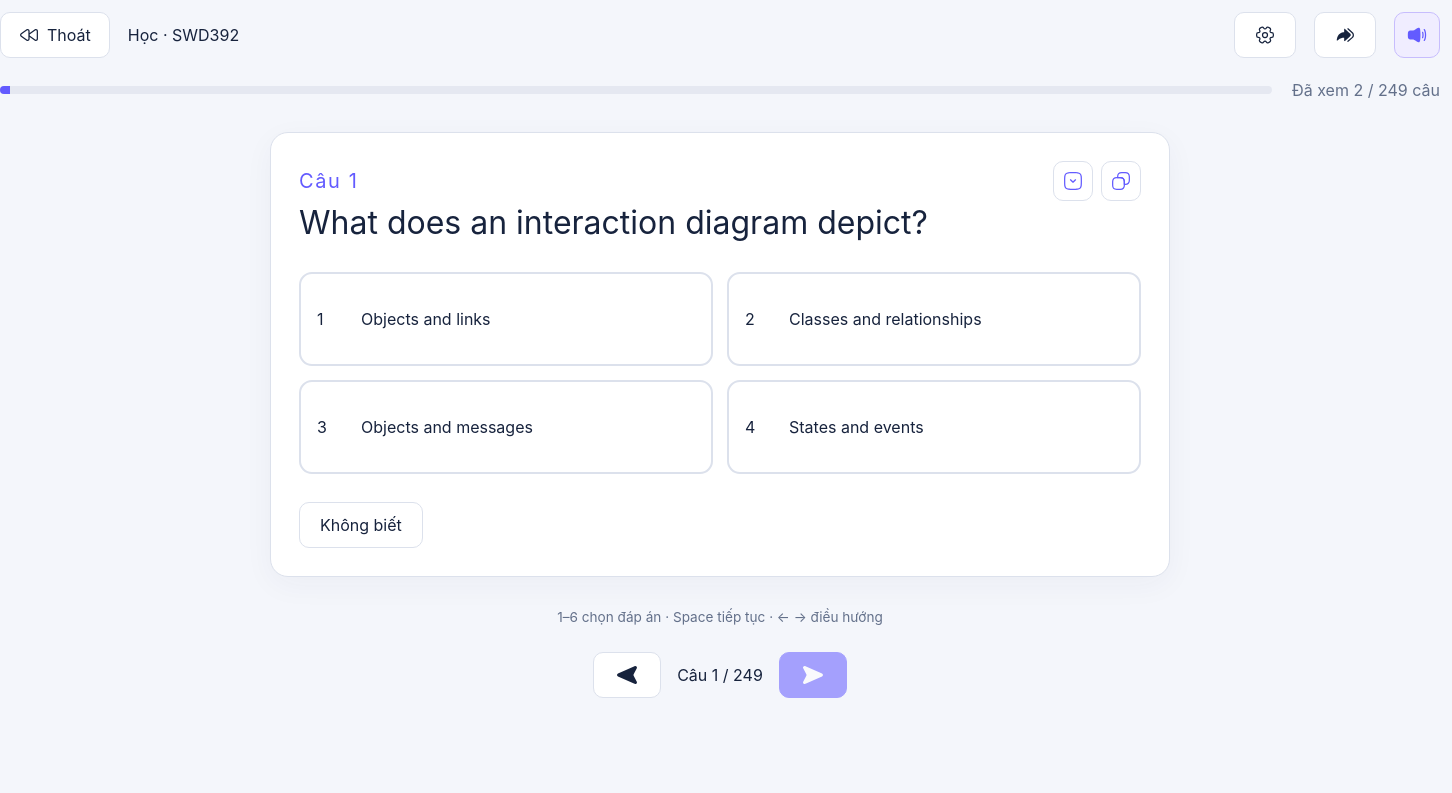
Test: StudyShell interactions and sound › restores an answered item neutrally without replaying transient details
expect the text "Câu 1" is shown: met, box [299, 166, 358, 196]
Click the button named "Trước": (627, 675) [593, 652, 661, 698]
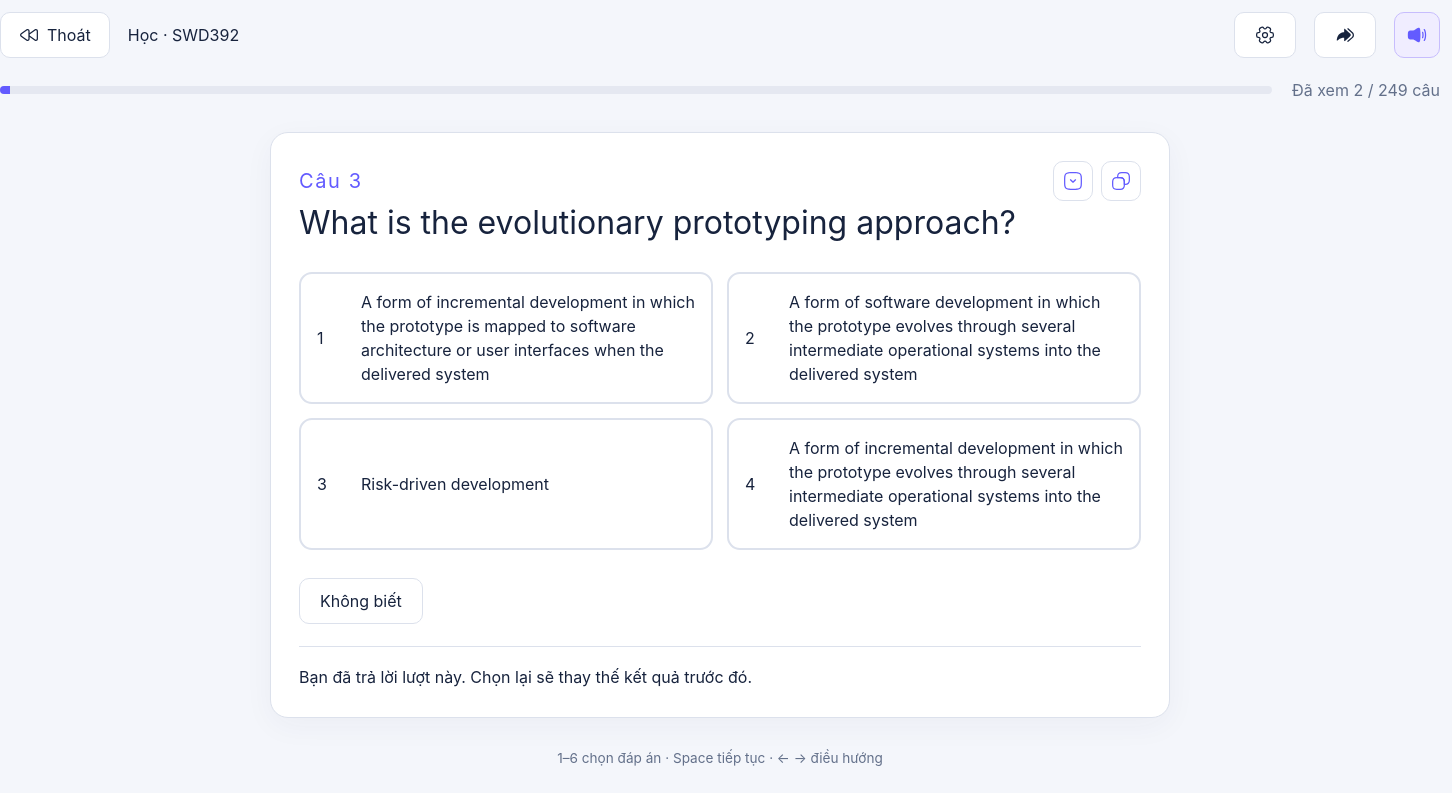
expect the button "Không biết" is enabled: met, box [299, 578, 423, 624]
expect the text "Bạn đã trả lời lượt này. Chọn lại sẽ thay thế kết quả trước đó." is shown: met, box [299, 646, 1141, 689]
